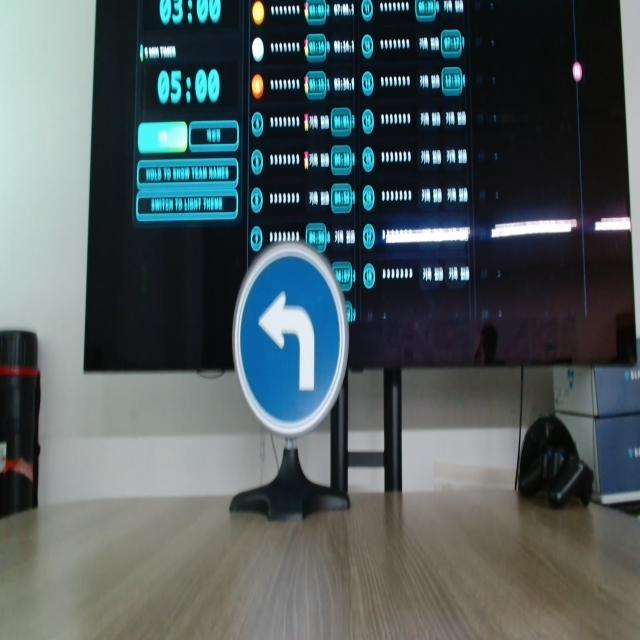left_direction: (226, 242, 342, 458)
